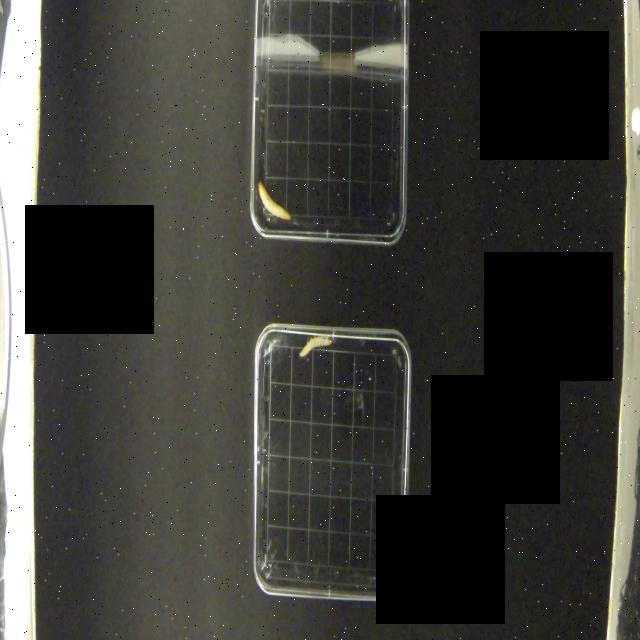larva: (258, 180, 291, 221), (299, 333, 332, 358)
